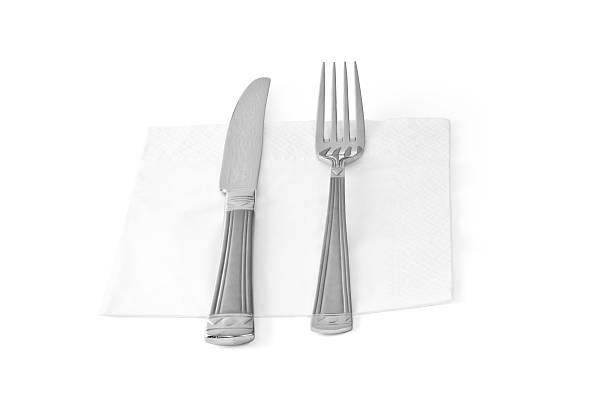k1: (214, 72, 272, 265)
